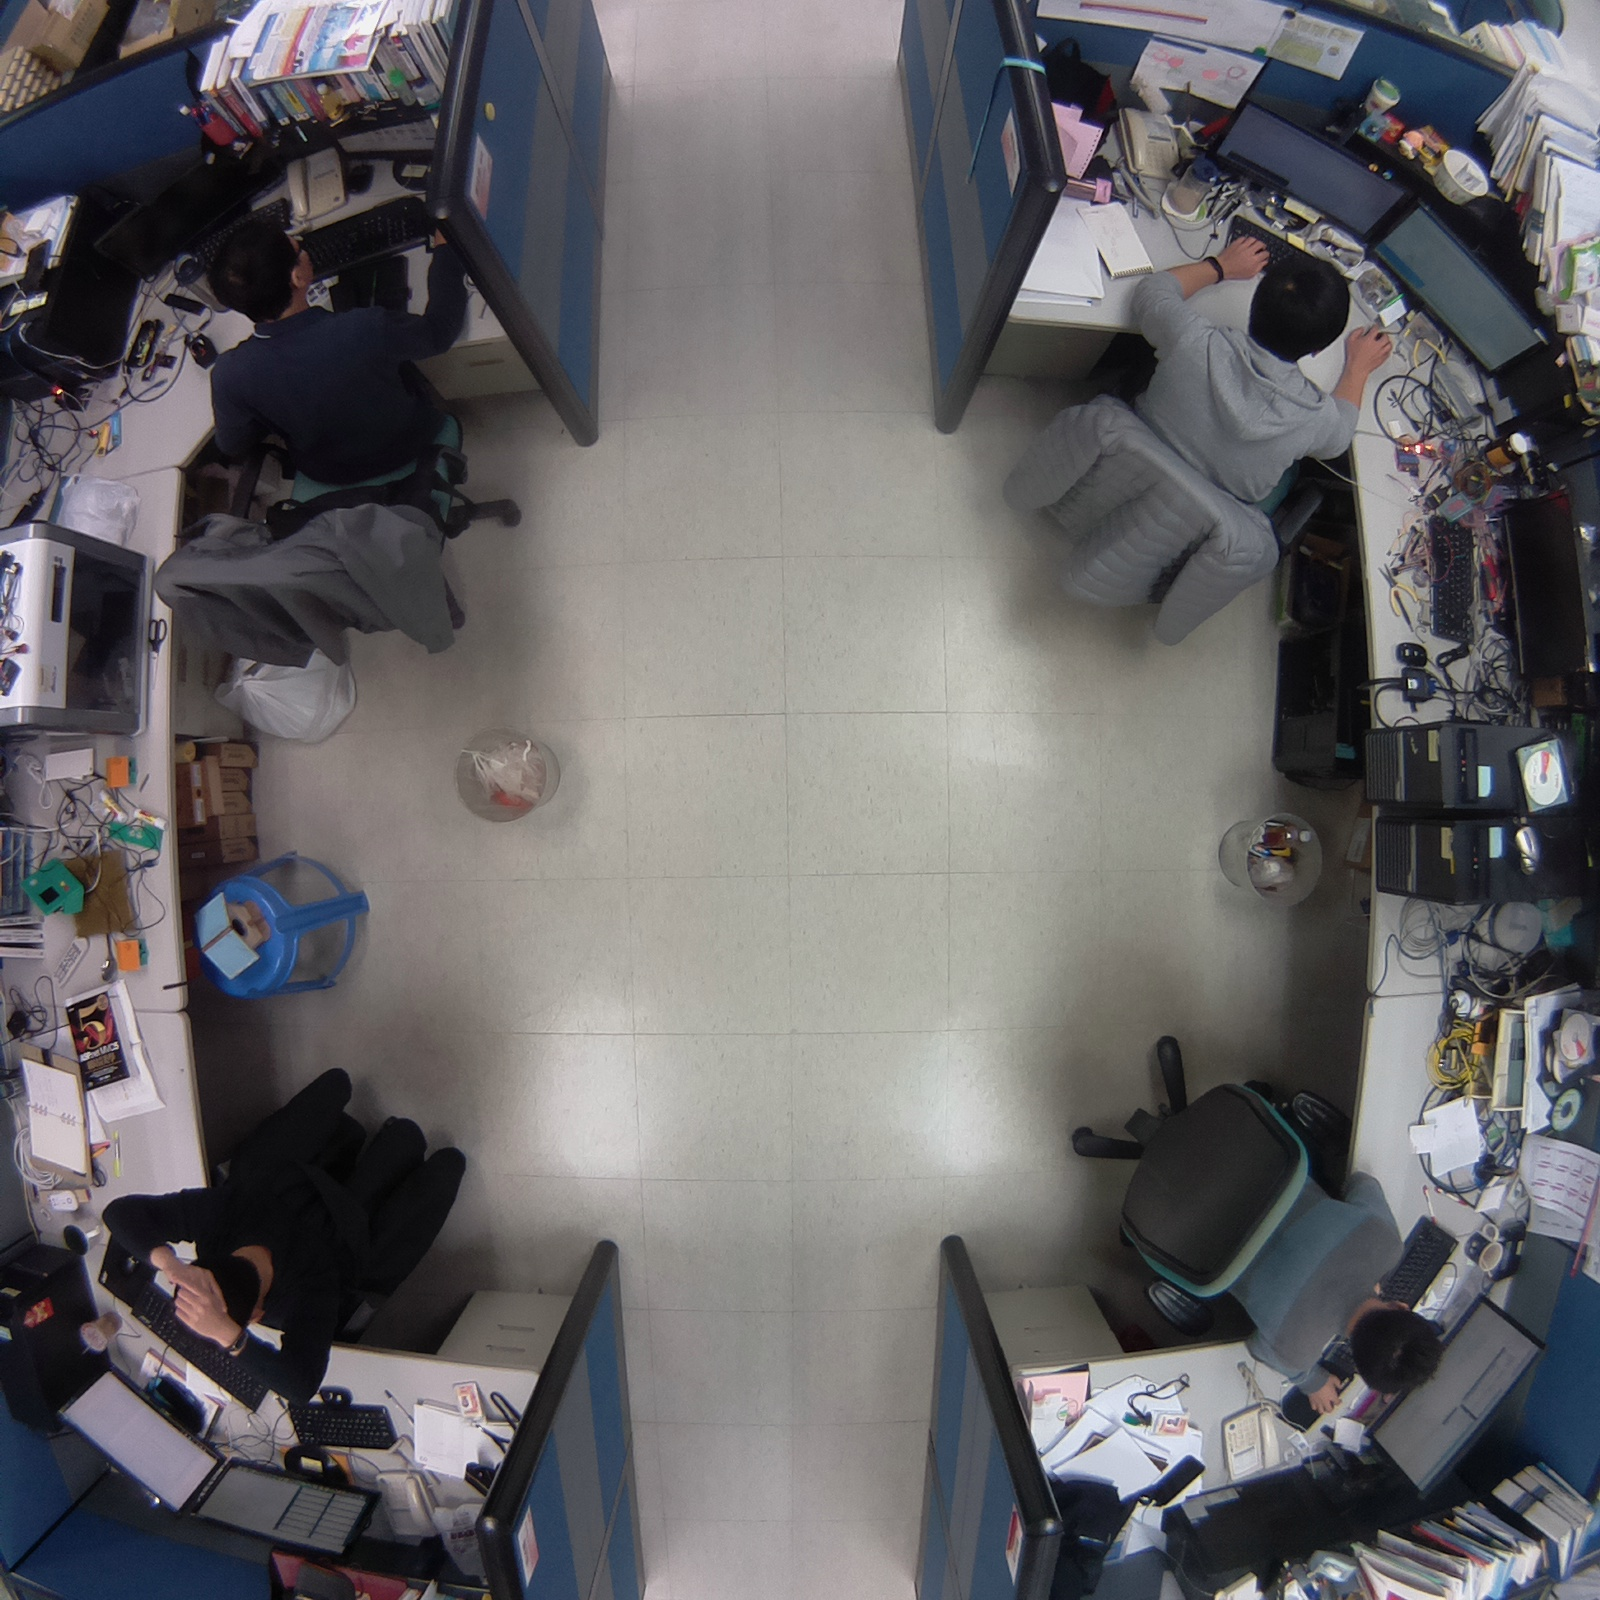head: (189, 217, 325, 329), (1236, 246, 1357, 370), (1342, 1287, 1451, 1406), (163, 1248, 278, 1355)
sitting: (142, 212, 537, 683), (986, 227, 1401, 660), (1055, 1009, 1464, 1420), (104, 1047, 488, 1404)
